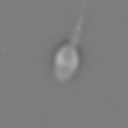normal: (64, 1, 92, 42)
